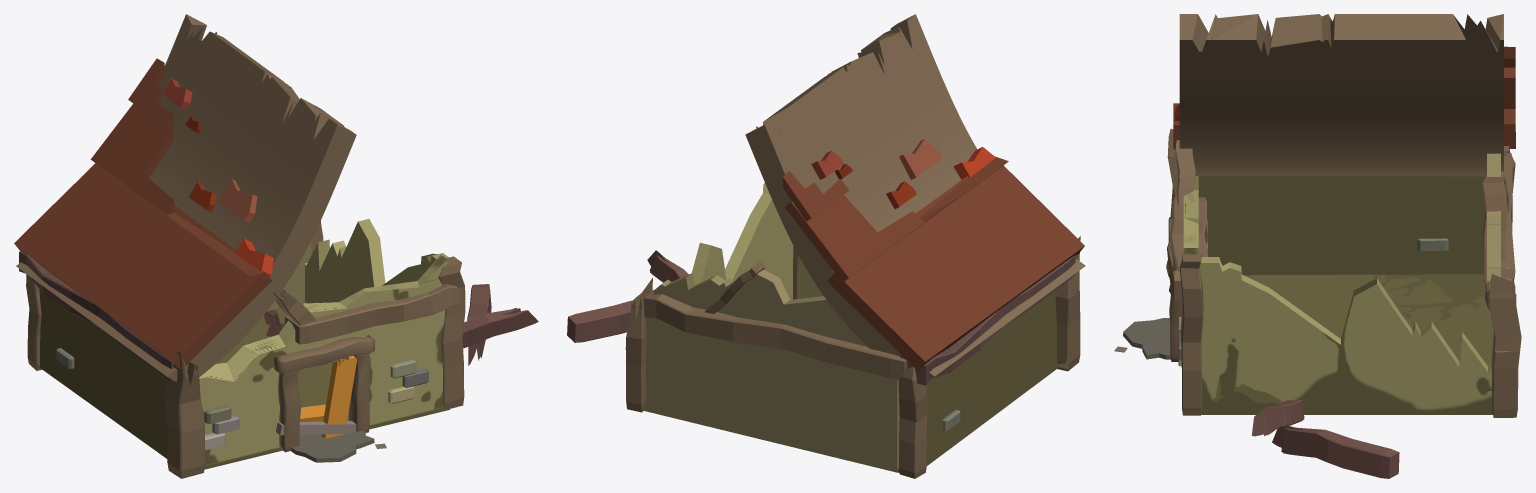
Rendered from Cottage_House_destroyed1.glb.
3 renders of one model, left to right at view 1: azimuth 30°, elevation 25°; view 2: azimuth 150°, elevation 25°; view 3: azimuth 270°, elevation 25°, orthographic. The views are drawn at different scales.
Visible parts, largest first — view 1: NurbsPath.002, Cube.031, Cube.005, Cube.027, Cube.018, Cube.009, Cube.006, Cube.048, Cube.012, Cube.013, Cube.042, Cube.056 (+10 smaller); view 2: Cube.031, NurbsPath.002, Cube.022, Cube.027, Cube.024, Cube.025, Cube.018, Cube.021, Cube.042, Cube.019, Cube.006, Cube.058 (+5 smaller); view 3: NurbsPath.002, Cube.018, Cube.027, Cube.013, Cube.019, Cube.058, Cube.012, Cube.048, Cube.056, Cube.031, Cube.030, Cube.025 (+6 smaller).
Part boxes in pixels (bbox=[...]): NurbsPath.002: bbox=[16, 14, 356, 381]; Cube.031: bbox=[14, 58, 272, 368]; Cube.005: bbox=[199, 254, 447, 465]; Cube.027: bbox=[39, 290, 167, 458]; Cube.018: bbox=[305, 219, 448, 303]; Cube.009: bbox=[274, 335, 374, 452]; Cube.006: bbox=[164, 352, 205, 478]; Cube.048: bbox=[285, 283, 459, 344]; Cube.012: bbox=[438, 256, 465, 409]; Cube.013: bbox=[204, 301, 450, 469]; Cube.042: bbox=[19, 251, 173, 381]; Cube.056: bbox=[291, 419, 374, 462]; Cube.031: bbox=[783, 156, 1084, 370]; NurbsPath.002: bbox=[745, 14, 1085, 379]; Cube.022: bbox=[644, 309, 899, 472]; Cube.027: bbox=[926, 291, 1057, 465]; Cube.024: bbox=[644, 290, 906, 380]; Cube.025: bbox=[653, 269, 867, 346]; Cube.018: bbox=[692, 183, 793, 299]; Cube.021: bbox=[898, 354, 927, 478]; Cube.042: bbox=[907, 255, 1075, 385]; Cube.019: bbox=[625, 277, 652, 412]; Cube.006: bbox=[1055, 236, 1080, 371]; Cube.058: bbox=[567, 300, 632, 342]; NurbsPath.002: bbox=[1179, 14, 1503, 176]; Cube.018: bbox=[1199, 257, 1492, 414]; Cube.027: bbox=[1198, 176, 1486, 275]; Cube.013: bbox=[1244, 274, 1490, 366]; Cube.019: bbox=[1489, 274, 1521, 417]; Cube.058: bbox=[1272, 425, 1399, 478]; Cube.012: bbox=[1179, 252, 1203, 415]; Cube.048: bbox=[1169, 197, 1208, 299]; Cube.056: bbox=[1123, 318, 1170, 359]; Cube.031: bbox=[1173, 46, 1515, 149]; Cube.030: bbox=[1482, 177, 1508, 287]; Cube.025: bbox=[1487, 153, 1500, 291].
Size of the model in its own units: 7.44 by 5.38 by 5.81.
Materials: 41 (3 with a texture image).
